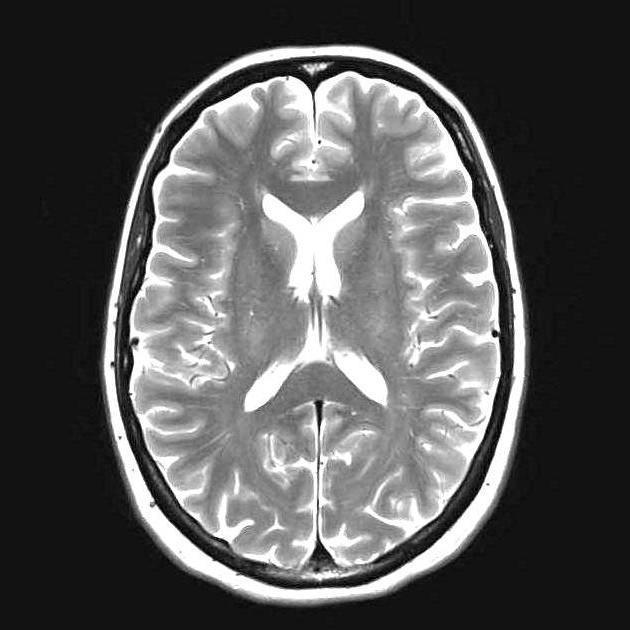Normal_Brain: (41, 26, 590, 630)
